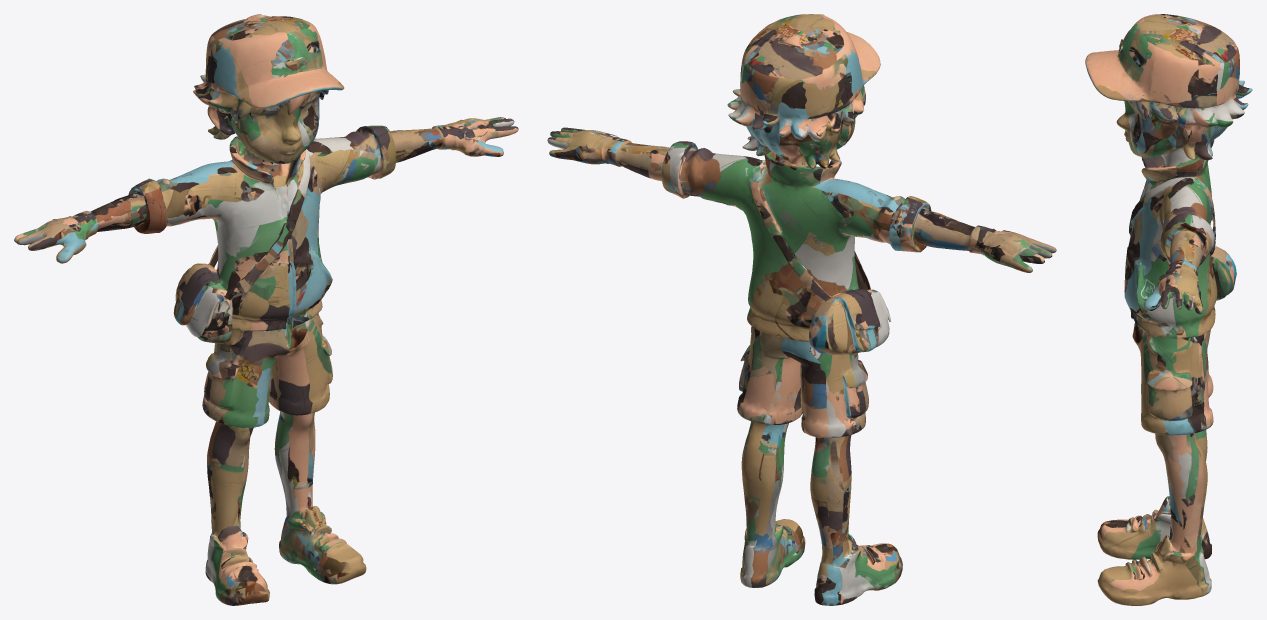
File: TrainerMale.obj
3 renders of one model, left to right at view 1: azimuth 30°, elevation 25°; view 2: azimuth 150°, elevation 25°; view 3: azimuth 270°, elevation 25°, orthographic.
Visible parts, largest first — view 1: surface_8; view 2: surface_8; view 3: surface_8.
Part boxes in pixels (x1,y1,x2,y2): surface_8: (14,14,518,605); surface_8: (547,14,1056,605); surface_8: (1085,14,1252,605).
Bounding box in the file's own units: 0.9431 × 1 × 0.2757.
1 material, 1 textured.
